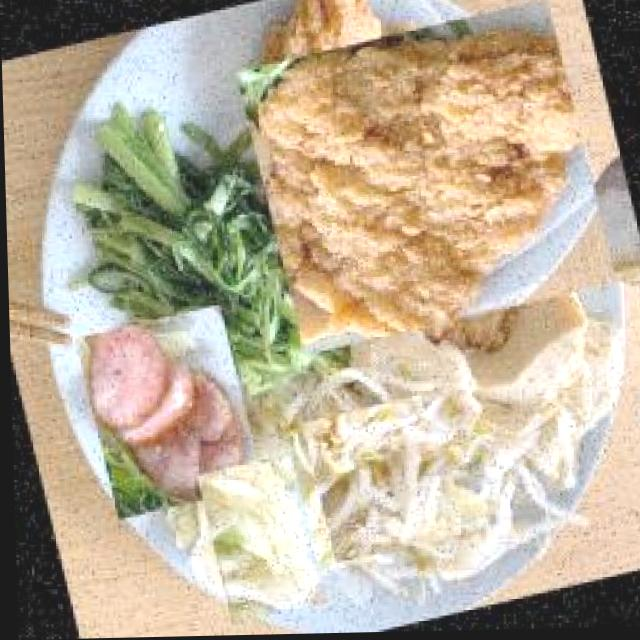chinese_cabbage: (181, 464, 334, 615)
chinese_sausage: (72, 304, 262, 522)
fried_chicken: (215, 0, 604, 376)
mung_bean_sprouts: (302, 382, 491, 570)
water_spinach: (57, 70, 308, 419)
